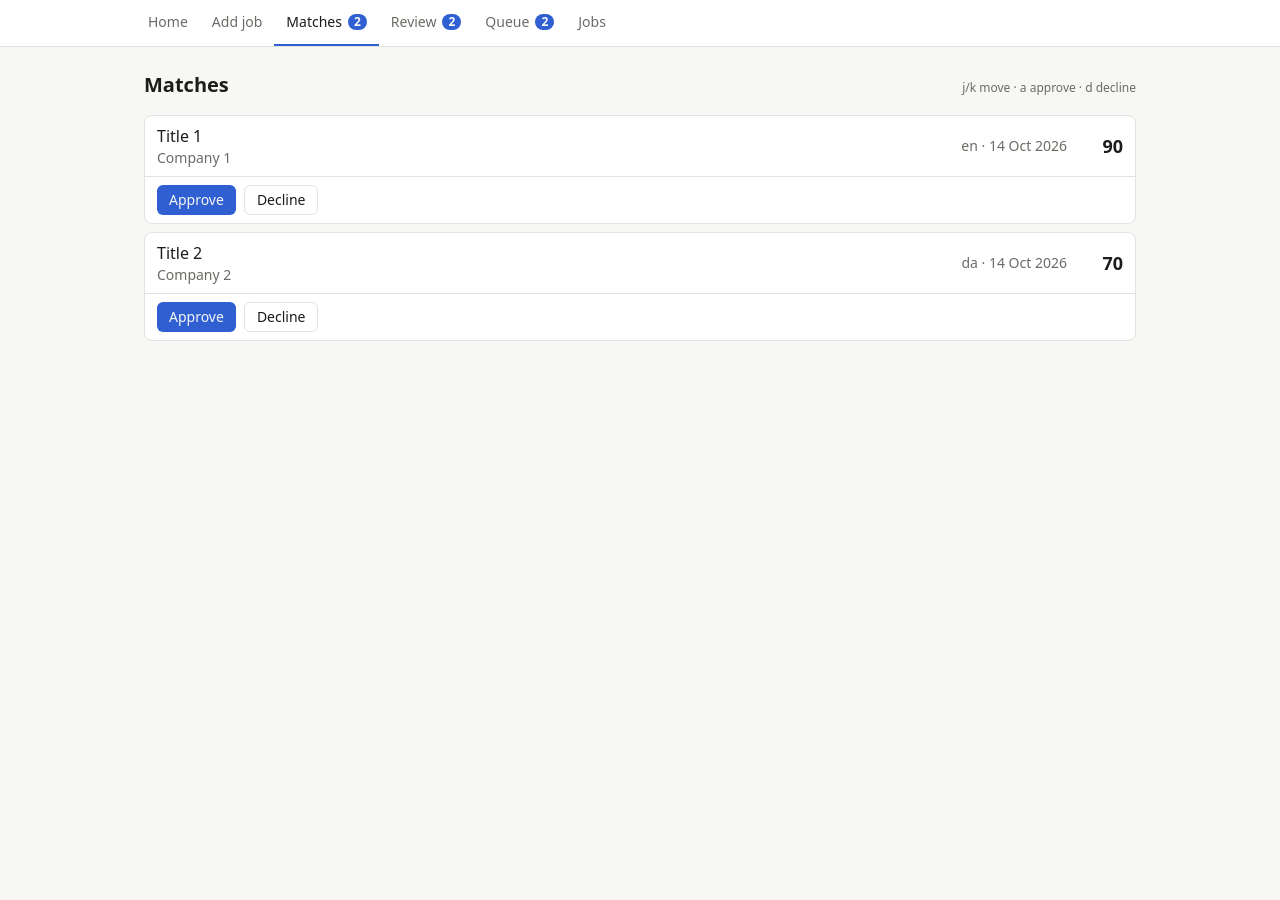
Matches tab (gate 1) › shows flags and the Danish-required chip
The image size is (1280, 900).
Click the text "Title 2": (180, 253) [157,242,202,264]
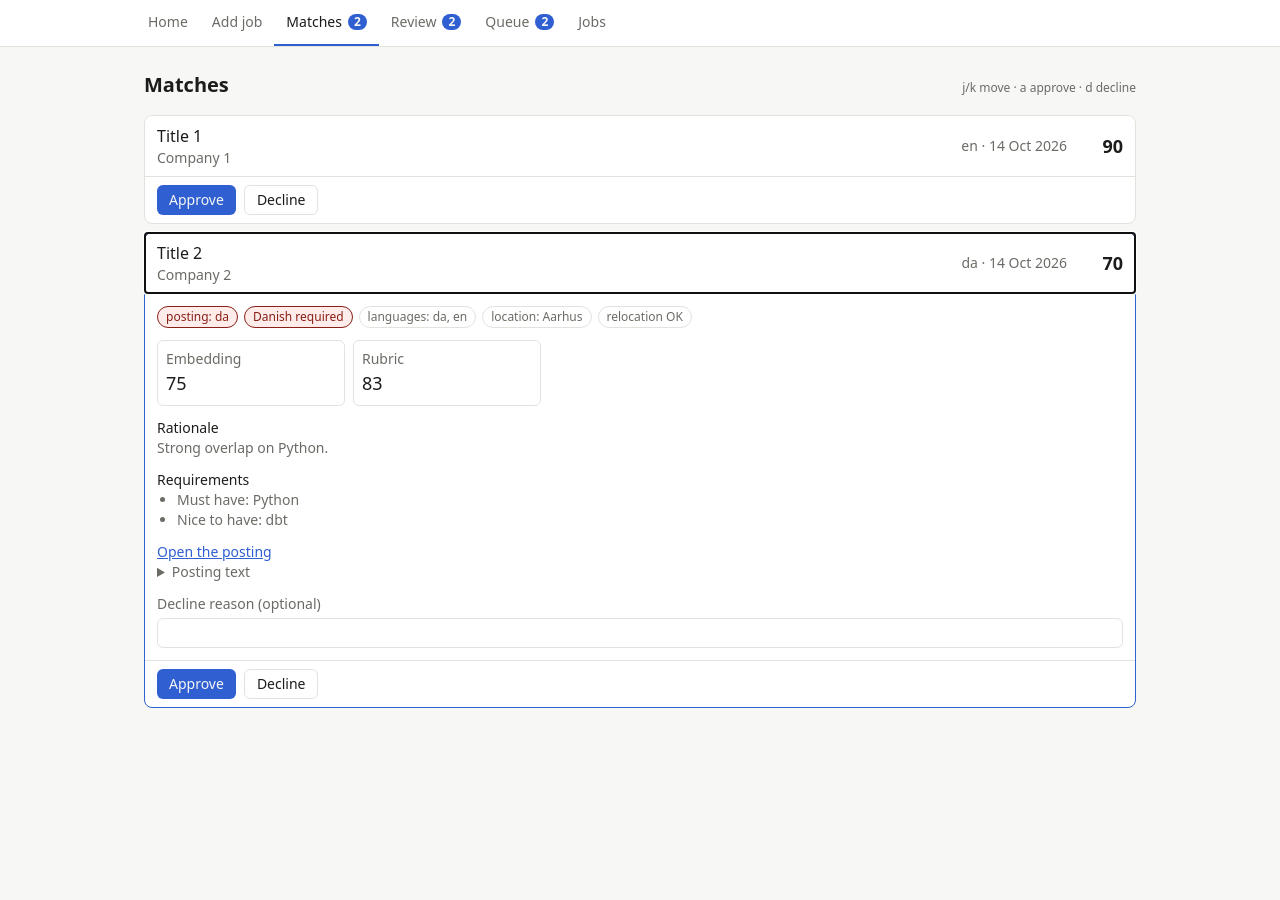
Check: the text "Danish required" is shown, box [244,306,353,328]
Check: the text "location: Aarhus" is shown, box [482,306,592,328]
Check: the text "Strong overlap on Python." is shown, box [157,438,328,457]
